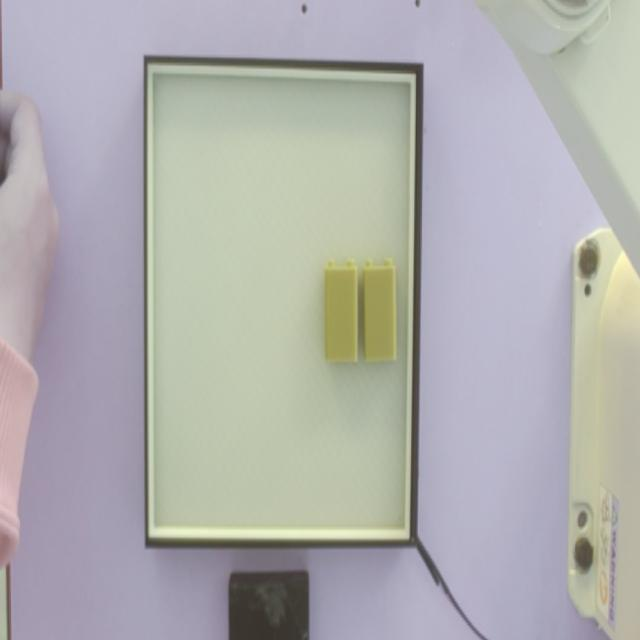bateria: (326, 260, 359, 362), (362, 260, 395, 362)
mesa: (145, 56, 424, 550)
